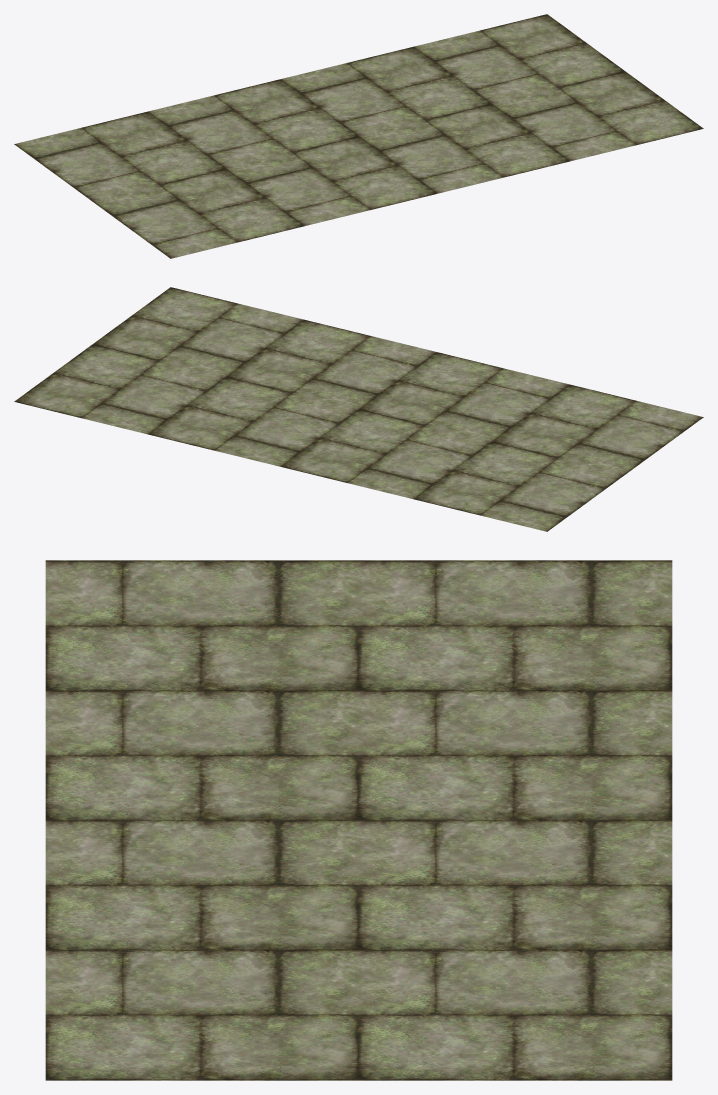
File: OVERHILL_A_01_OBJECT111.fbx
3 views of the same model, one above another, from view 1: azimuth 30°, elevation 25°; view 2: azimuth 150°, elevation 25°; view 3: azimuth 270°, elevation 25° (orthographic). The views are drawn at different scales.
Visible parts, largest first — view 1: OVERHILL_A_01_OBJECT111; view 2: OVERHILL_A_01_OBJECT111; view 3: OVERHILL_A_01_OBJECT111.
Part boxes in pixels (x1,y1,x2,y2): OVERHILL_A_01_OBJECT111: (14, 14, 703, 258); OVERHILL_A_01_OBJECT111: (14, 287, 703, 531); OVERHILL_A_01_OBJECT111: (45, 560, 672, 1080).
Bounding box in the file's own units: 154365 × 0.0189 × 78568.
Materials: 1 (1 with a texture image).
